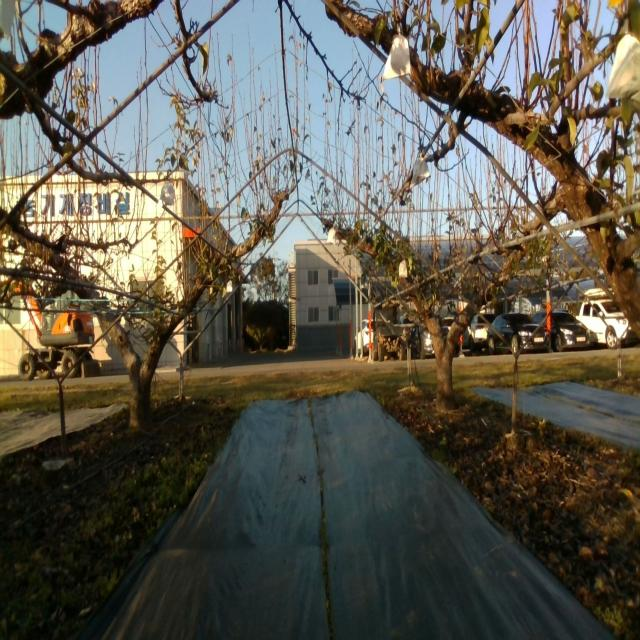pearbags: (603, 34, 640, 102), (381, 26, 412, 81), (409, 155, 431, 190), (157, 178, 175, 208), (327, 227, 336, 247)
